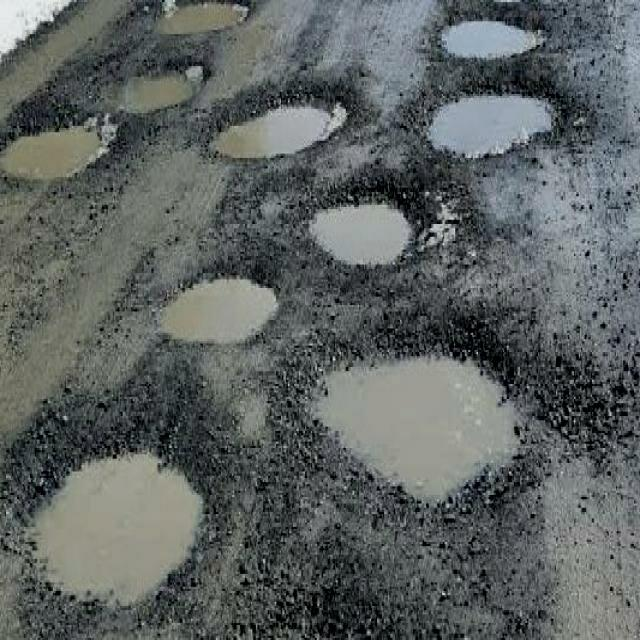Pothole: (294, 322, 539, 514), (24, 431, 219, 612), (414, 70, 567, 162), (205, 73, 357, 162), (158, 260, 287, 346), (309, 179, 420, 267), (1, 111, 114, 183), (437, 9, 552, 58), (107, 62, 202, 115), (151, 0, 257, 38)
